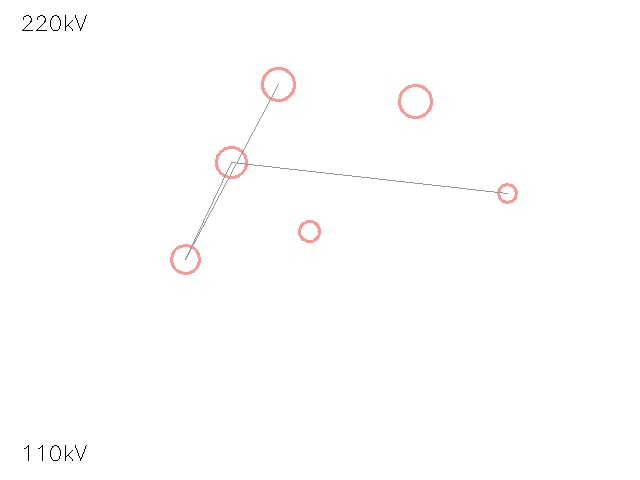current_transformer: (201, 132, 261, 192)
disconnect_switch: (246, 52, 310, 116)
feeder_terminal: (156, 230, 214, 288)
fuse: (288, 210, 330, 252)
load_break_switch: (383, 69, 447, 133), (488, 174, 526, 212)
